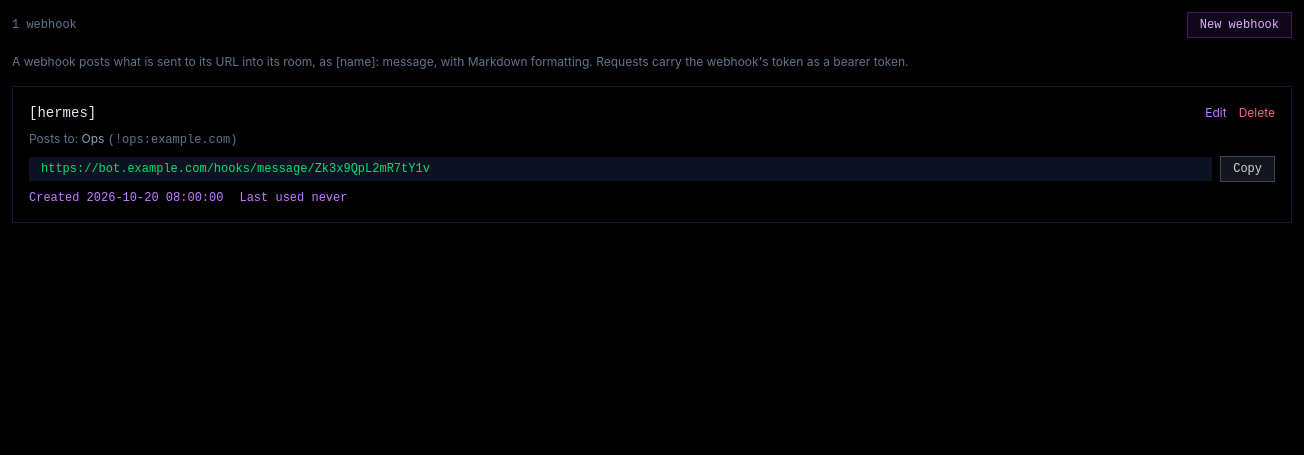
Test: WebhooksCard › editing › should send only the new name when renaming, and show no token
Click the button "Edit". click: (1216, 113)
box: [1205, 105, 1227, 121]
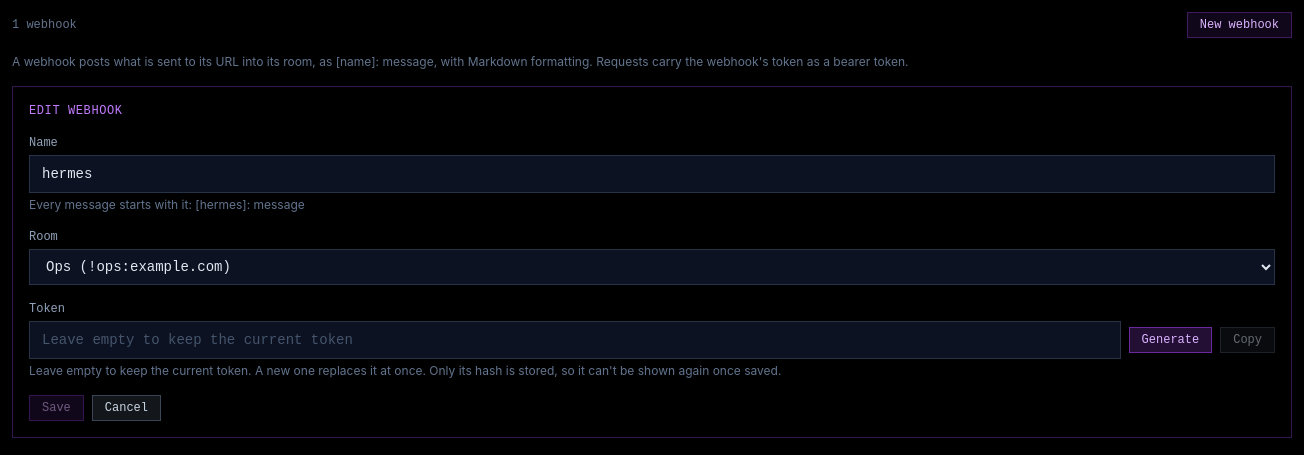
Type "iris" into the field labelled "Name". click: (652, 174)
box: [29, 155, 1275, 193]
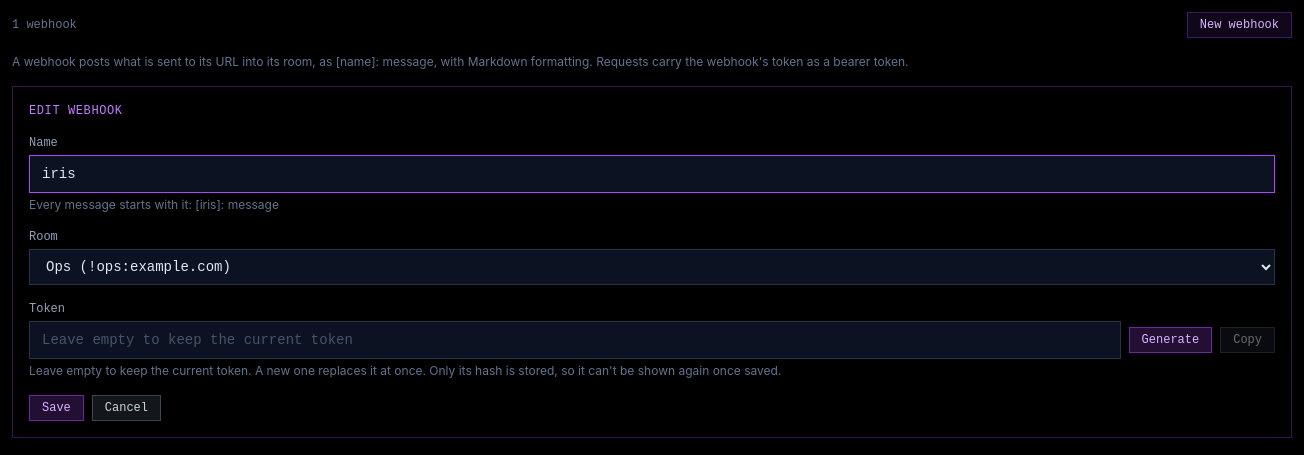
Click the button "Save". click: (56, 408)
box: [29, 395, 84, 421]
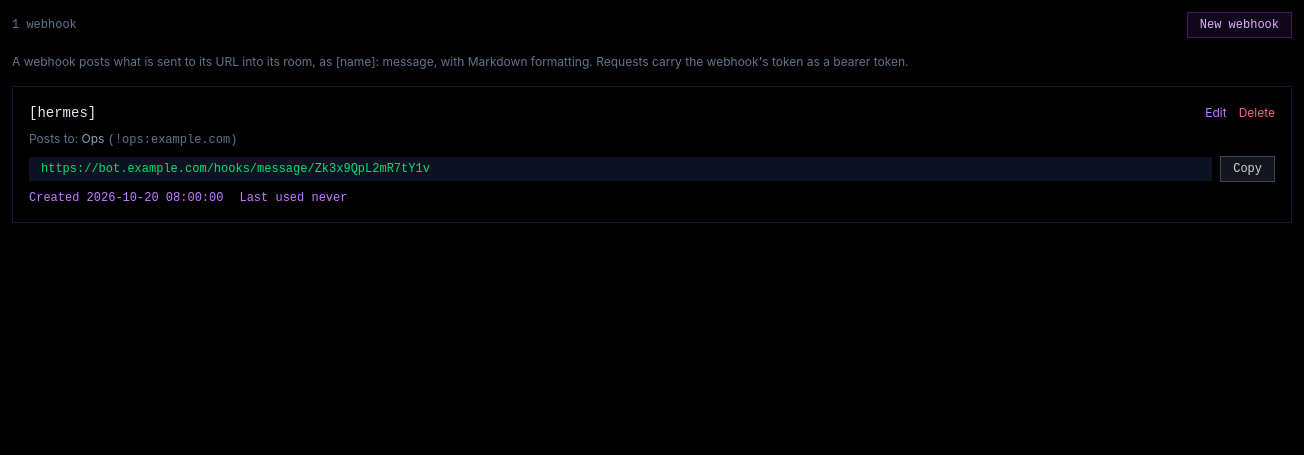
expect the text "can't be shown again" is gone: met
